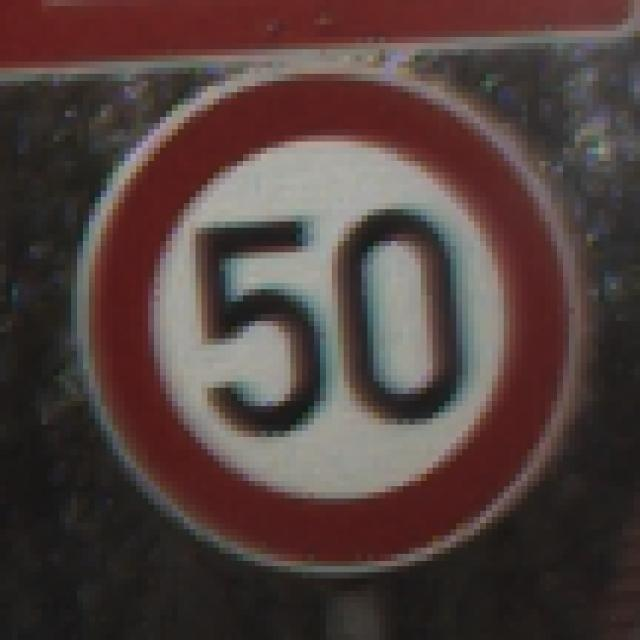speed limit 50: (87, 67, 579, 572)
